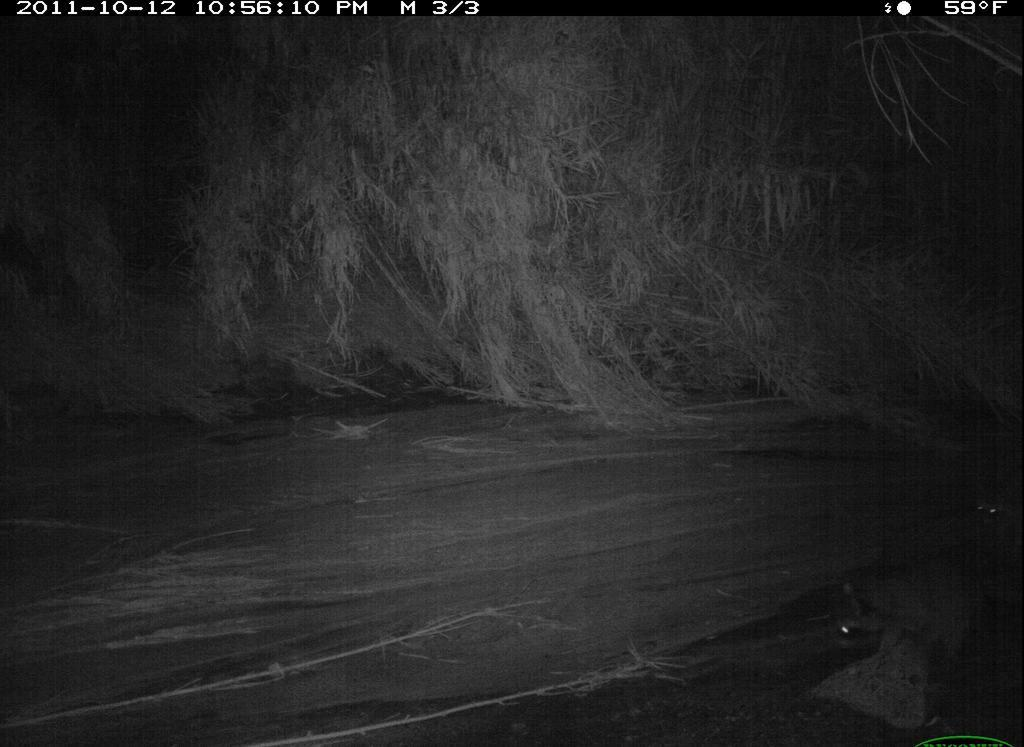raccoon: (821, 550, 1022, 674), (952, 461, 1023, 553)
